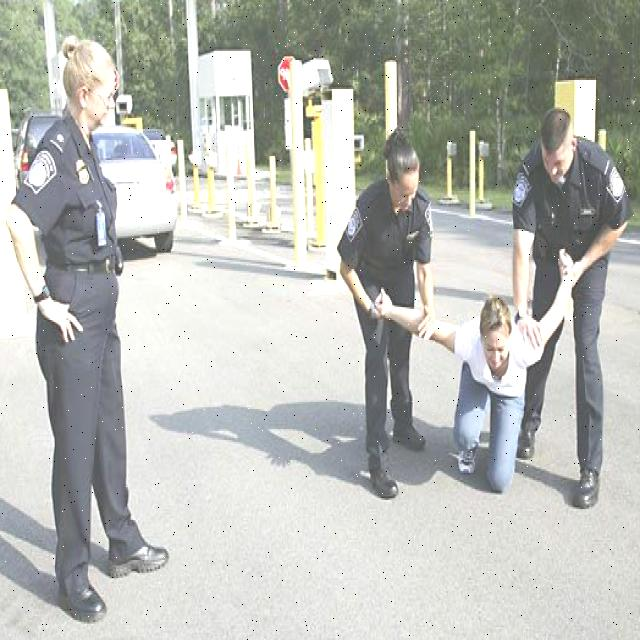police: (0, 15, 177, 638), (519, 80, 638, 516), (323, 120, 443, 509)
